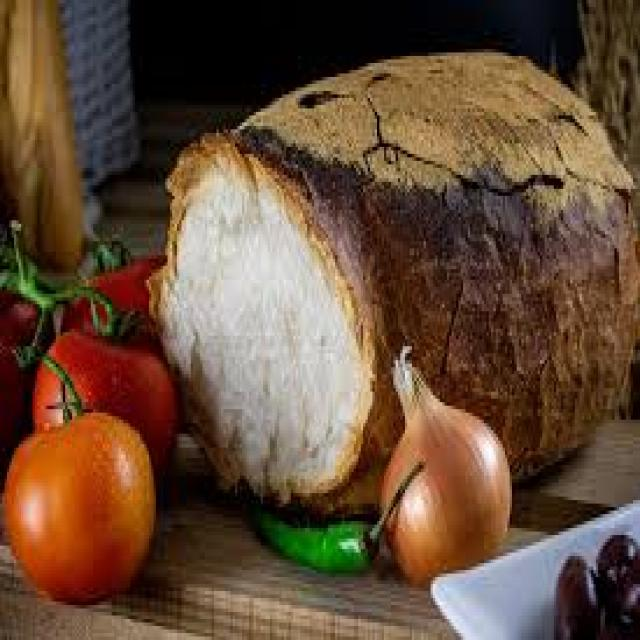Maltese-Bread: (151, 56, 638, 511)
